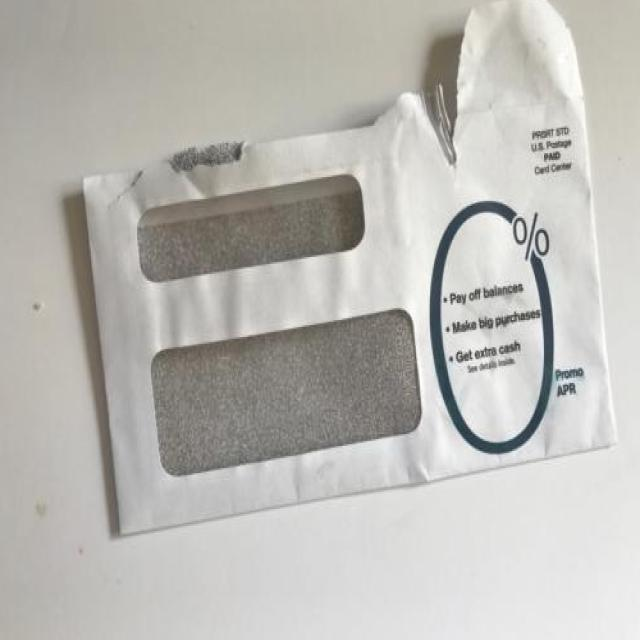kertas: (79, 0, 623, 540)
